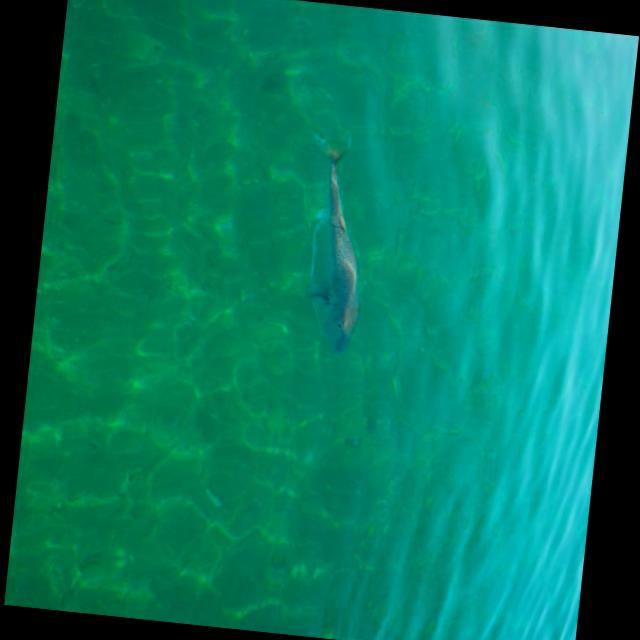Balon Baligi: (286, 128, 378, 356)
